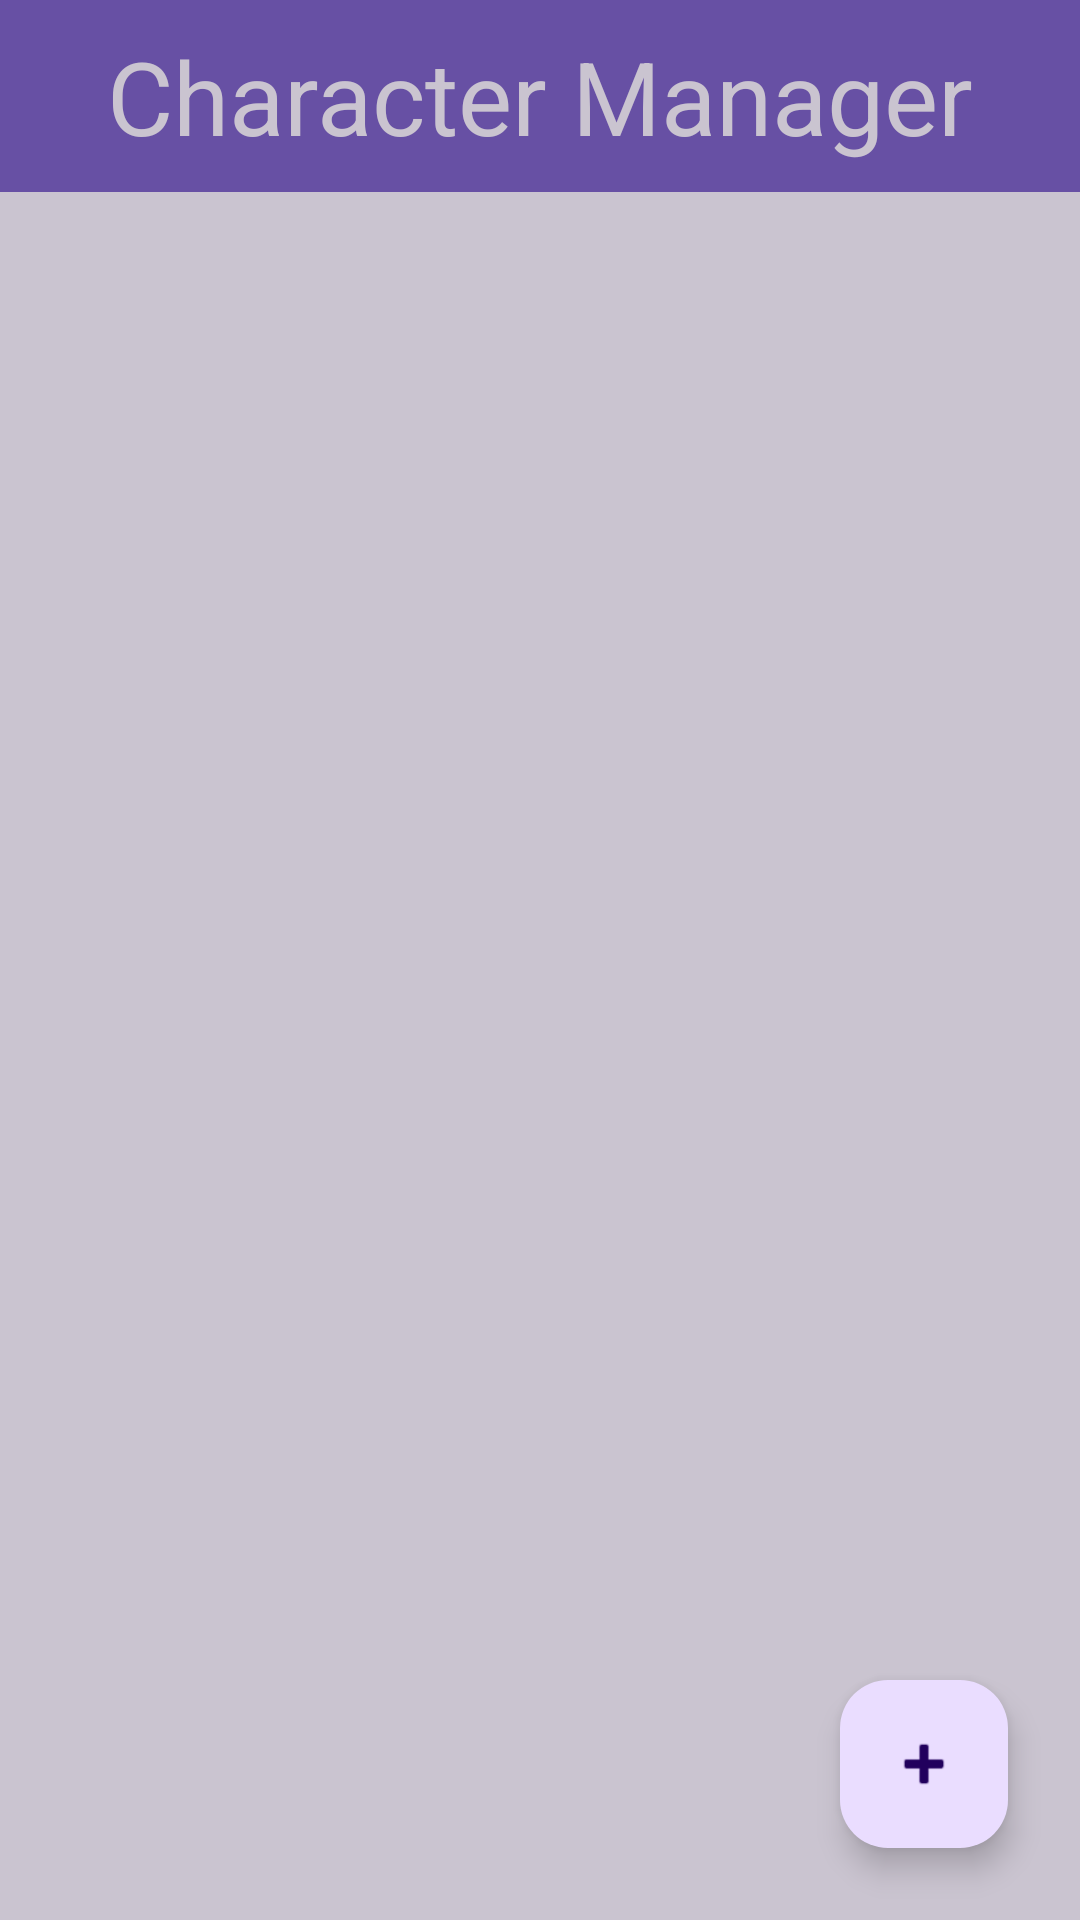

Named icons in this screenshot (1080 × 1920) and their bounding boxes, (x1, y1, x2, y2):
Add Character: (840, 1680, 1008, 1848)
